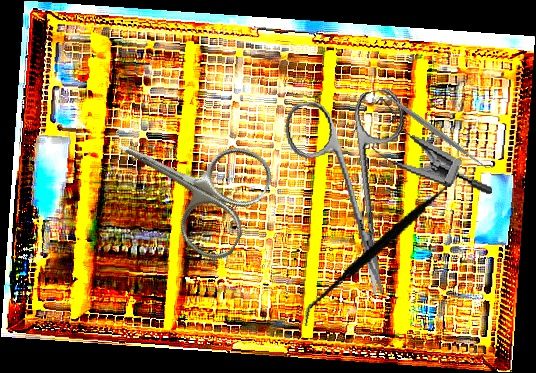Iris Scissors: (280, 86, 434, 305), (92, 93, 280, 269)
Spatula Surgical: (301, 137, 463, 355), (372, 81, 496, 178)
Speculum: (346, 94, 506, 196)
